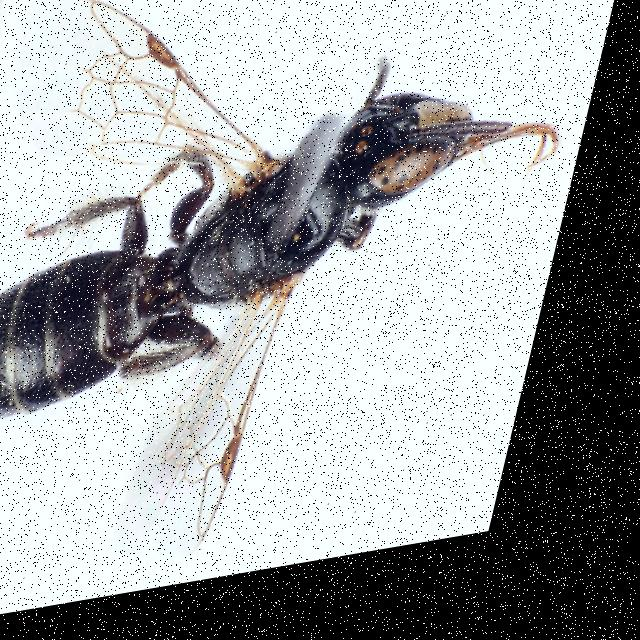Braunsapis: (0, 0, 619, 608)
